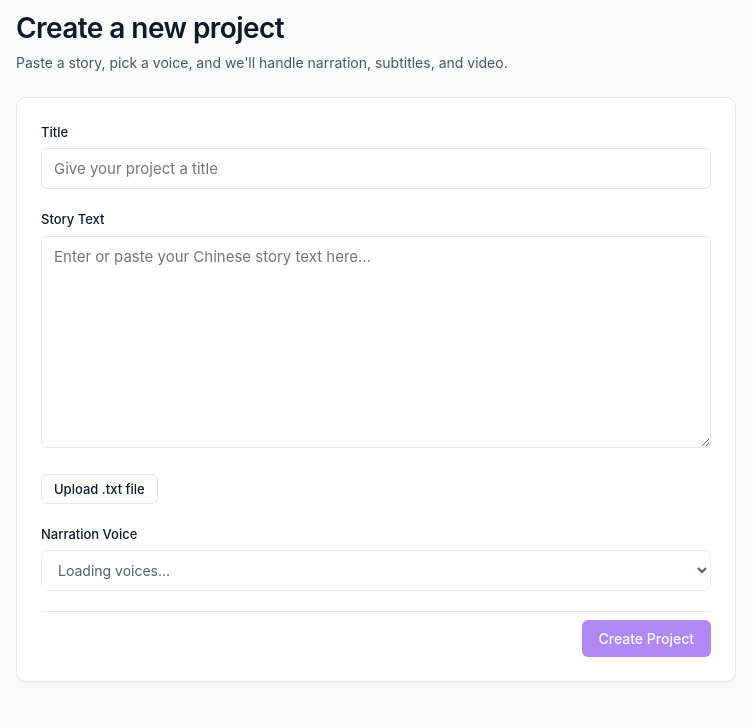
Test: CreateProjectPage › renders a TitleApiError(title_duplicate) inline next to the title input
Type "Dup" into the field labelled "Title" at (376, 169), box [41,148,711,189]
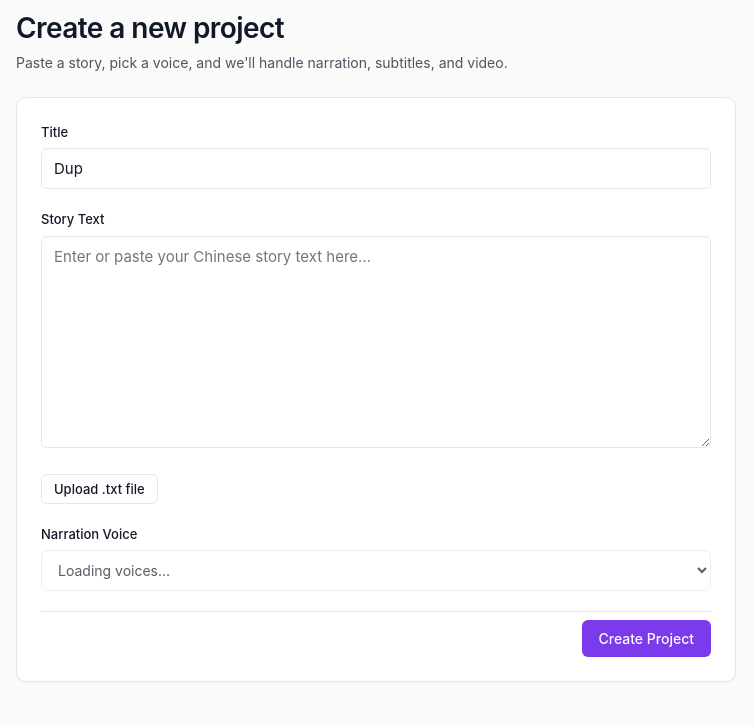
Type "story" into the text box labelled "Story Text" at (376, 342), box [41,236,711,448]
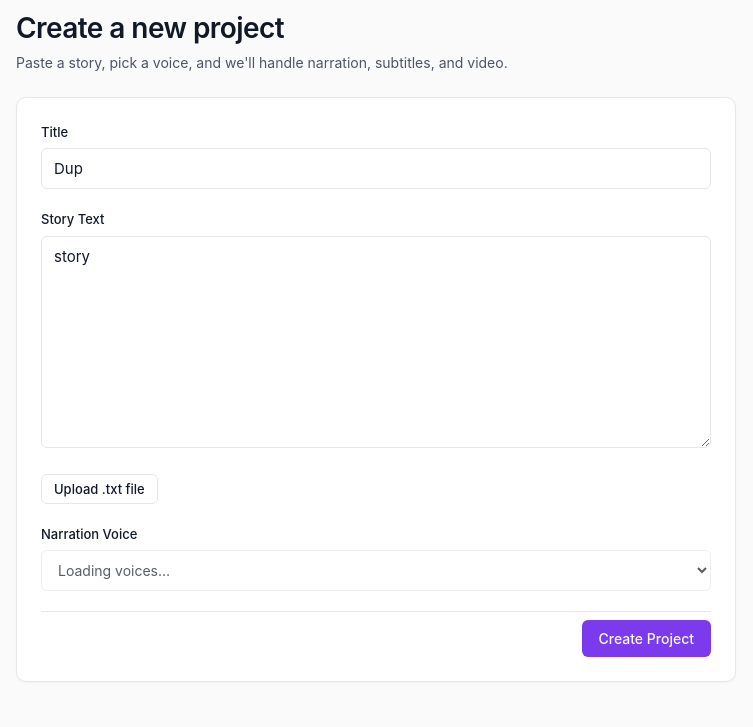
Click the button "Create Project" at (646, 638), box [582,620,711,657]
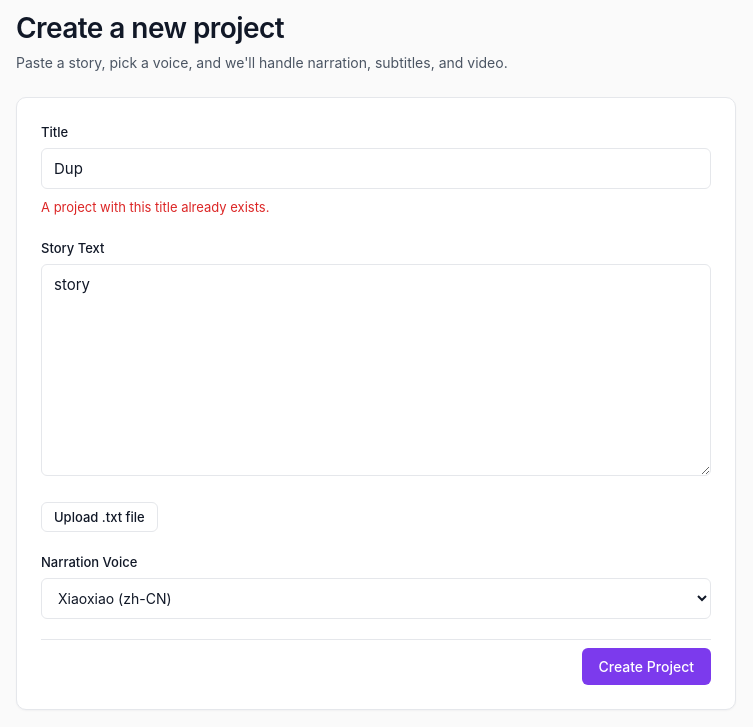
Expected: the text "A project with this title already exists." is shown, [41,199,269,215]
